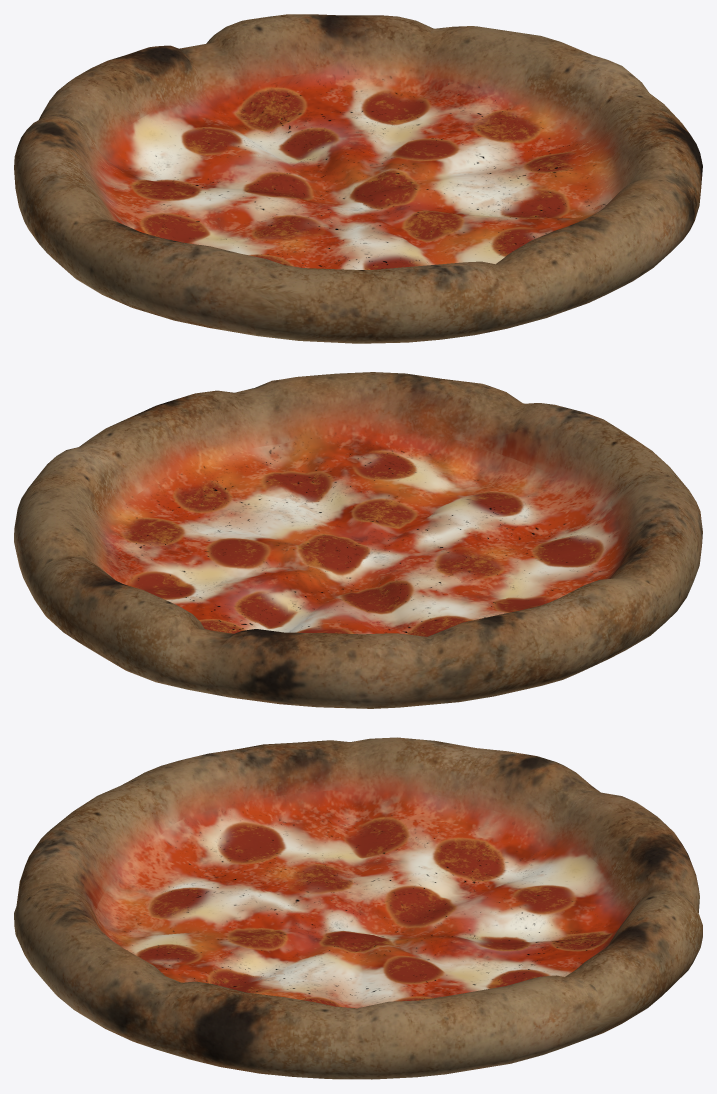
The model's file is SM_Pizza_01b.fbx.
3 views of the same model, one above another, from view 1: azimuth 30°, elevation 25°; view 2: azimuth 150°, elevation 25°; view 3: azimuth 270°, elevation 25° (orthographic).
Visible parts, largest first — view 1: SM_Pizza_01b_LOD0; view 2: SM_Pizza_01b_LOD0; view 3: SM_Pizza_01b_LOD0.
Part boxes in pixels (x1,y1,x2,y2): SM_Pizza_01b_LOD0: [14, 14, 702, 343]; SM_Pizza_01b_LOD0: [14, 372, 702, 708]; SM_Pizza_01b_LOD0: [14, 737, 702, 1079].
Bounding box in the file's own units: 33.22 × 32.81 × 4.24.
